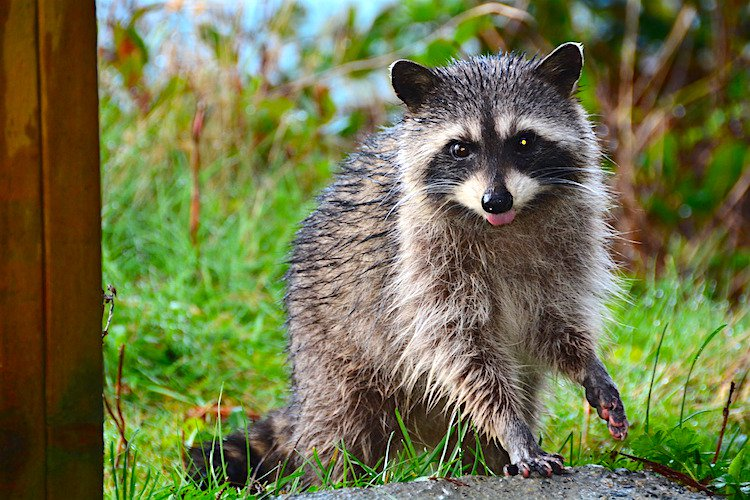raccoon: (251, 34, 633, 500)
